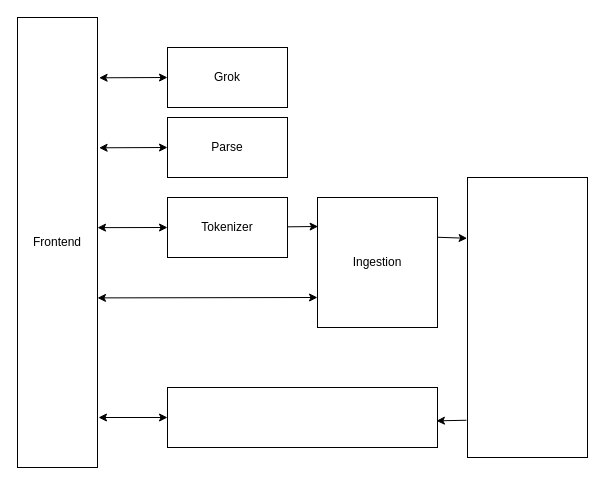
The diagram is 605 pixels wide and 485 high, and some of its shapes have lost their labels. The box of each missing label's shape, as (x1, y1, x2, y2) in pixels:
Search: (166, 386, 438, 448)
Storage: (466, 176, 588, 458)
